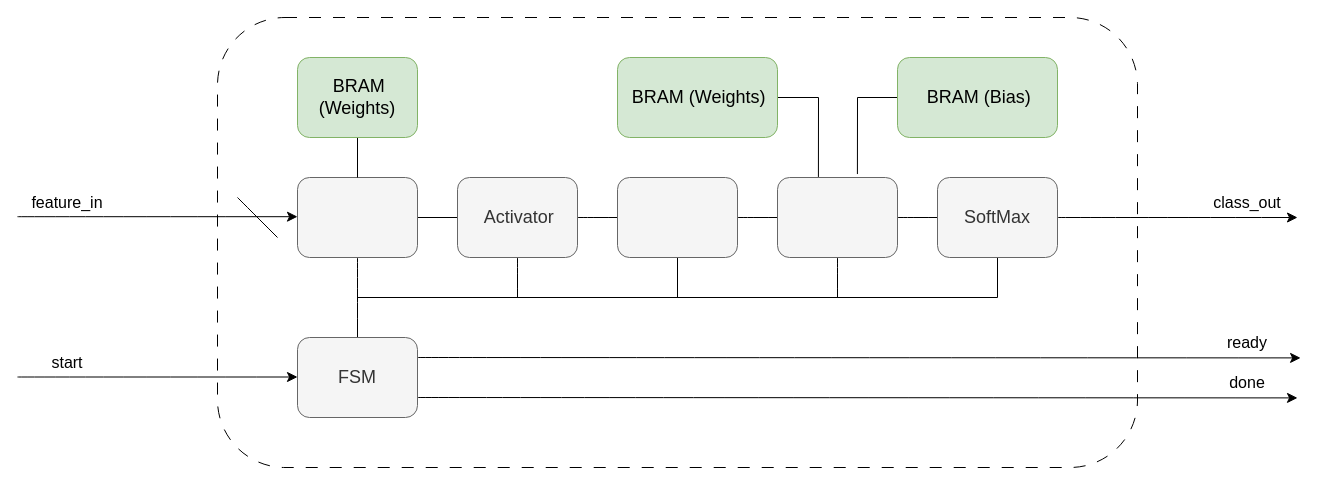
This 1317x485 diagram has some shape labels left out. The centre of each missing label's shape, as x and y in pixels:
"Convolution Core" goes at point 357,217.
"Fully Connected" goes at point 837,217.
"Max Pooling" goes at point 677,217.
